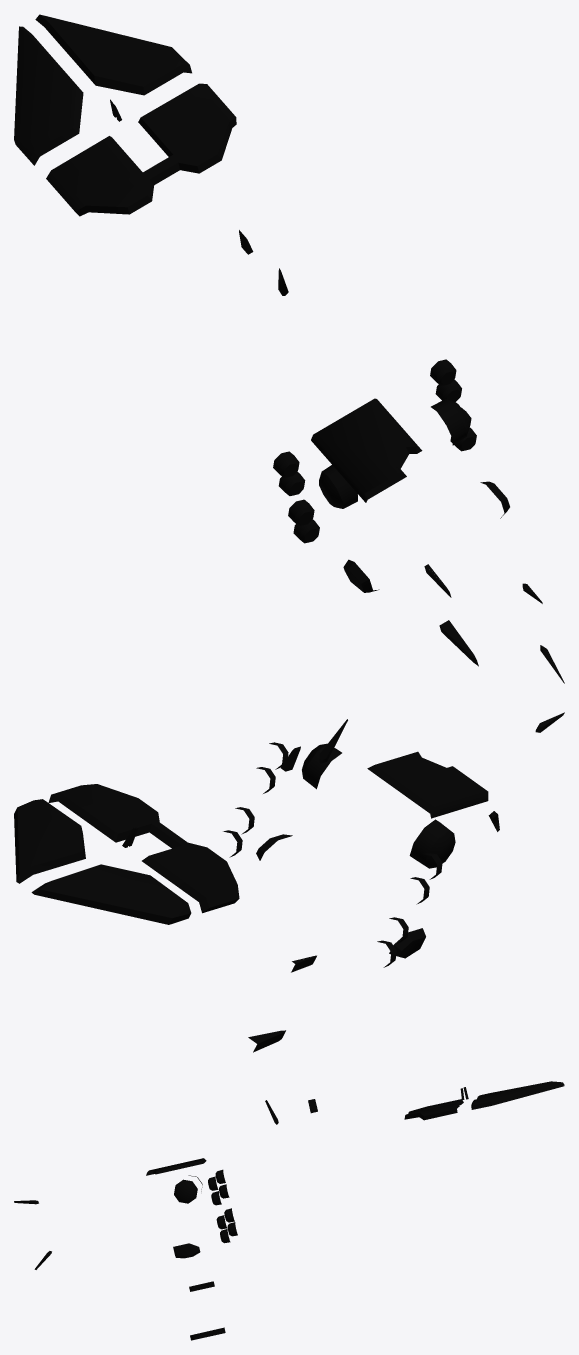
The model's file is prop_static_ghost_ship_02.glb.
3 renders of one model, top to bottom at view 1: azimuth 30°, elevation 25°; view 2: azimuth 150°, elevation 25°; view 3: azimuth 270°, elevation 25°, orthographic. The views are drawn at different scales.
Parts seen in each view (by area): view 1: ghost_ship_02; view 2: ghost_ship_02; view 3: ghost_ship_02.
Part boxes in pixels (bbox=[...]): ghost_ship_02: bbox=[14, 14, 564, 683]; ghost_ship_02: bbox=[14, 712, 564, 1052]; ghost_ship_02: bbox=[14, 1081, 564, 1340].
Size of what is drawn, in the model's own units: 1.87 by 3.64 by 7.84.
Materials: 1 (1 with a texture image).
